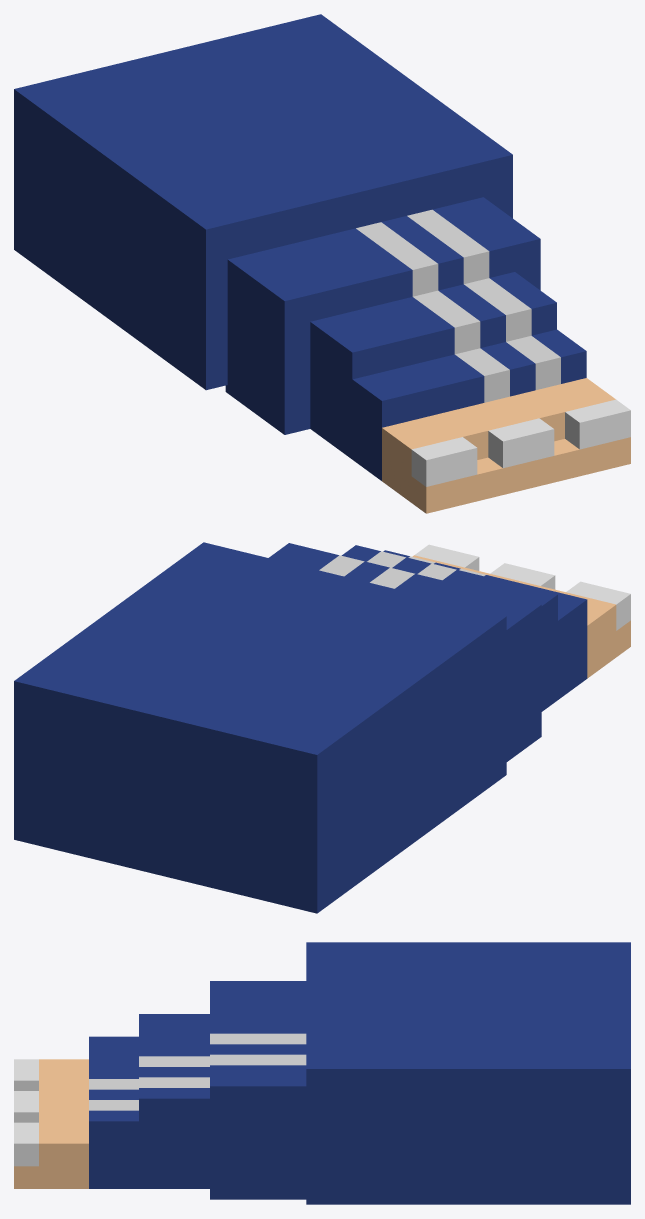
The model's file is lapa 1.fbx.
3 renders of one model, top to bottom at view 1: azimuth 30°, elevation 25°; view 2: azimuth 150°, elevation 25°; view 3: azimuth 270°, elevation 25°, orthographic. The views are drawn at different scales.
Parts seen in each view (by area): view 1: Untitled.001, Untitled, Untitled.002; view 2: Untitled.001, Untitled, Untitled.002; view 3: Untitled.001, Untitled, Untitled.002.
Part boxes in pixels (x1,y1,x2,y2): Untitled.001: (14,14,512,390); Untitled: (310,272,630,513); Untitled.002: (225,197,540,434); Untitled.001: (14,542,506,913); Untitled: (341,544,630,711); Untitled.002: (269,543,541,761); Untitled.001: (306,942,630,1204); Untitled: (14,1014,209,1188); Untitled.002: (210,981,306,1199).
Bounding box in the file's own units: 120 × 63.14 × 247.
